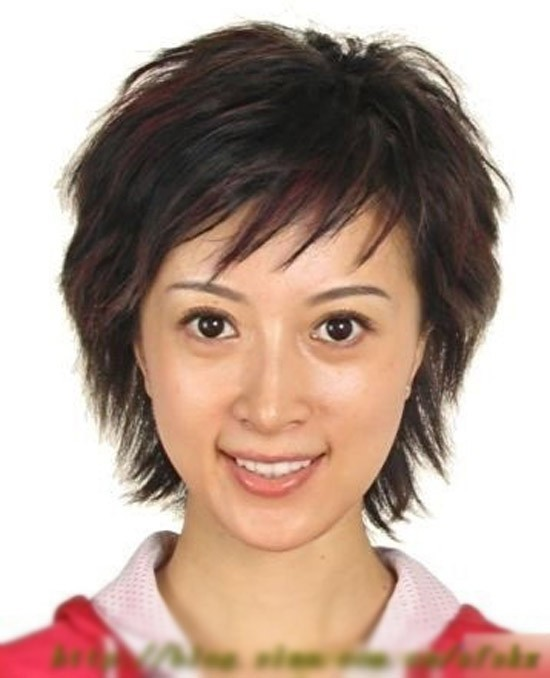unmask: (150, 206, 393, 539)
